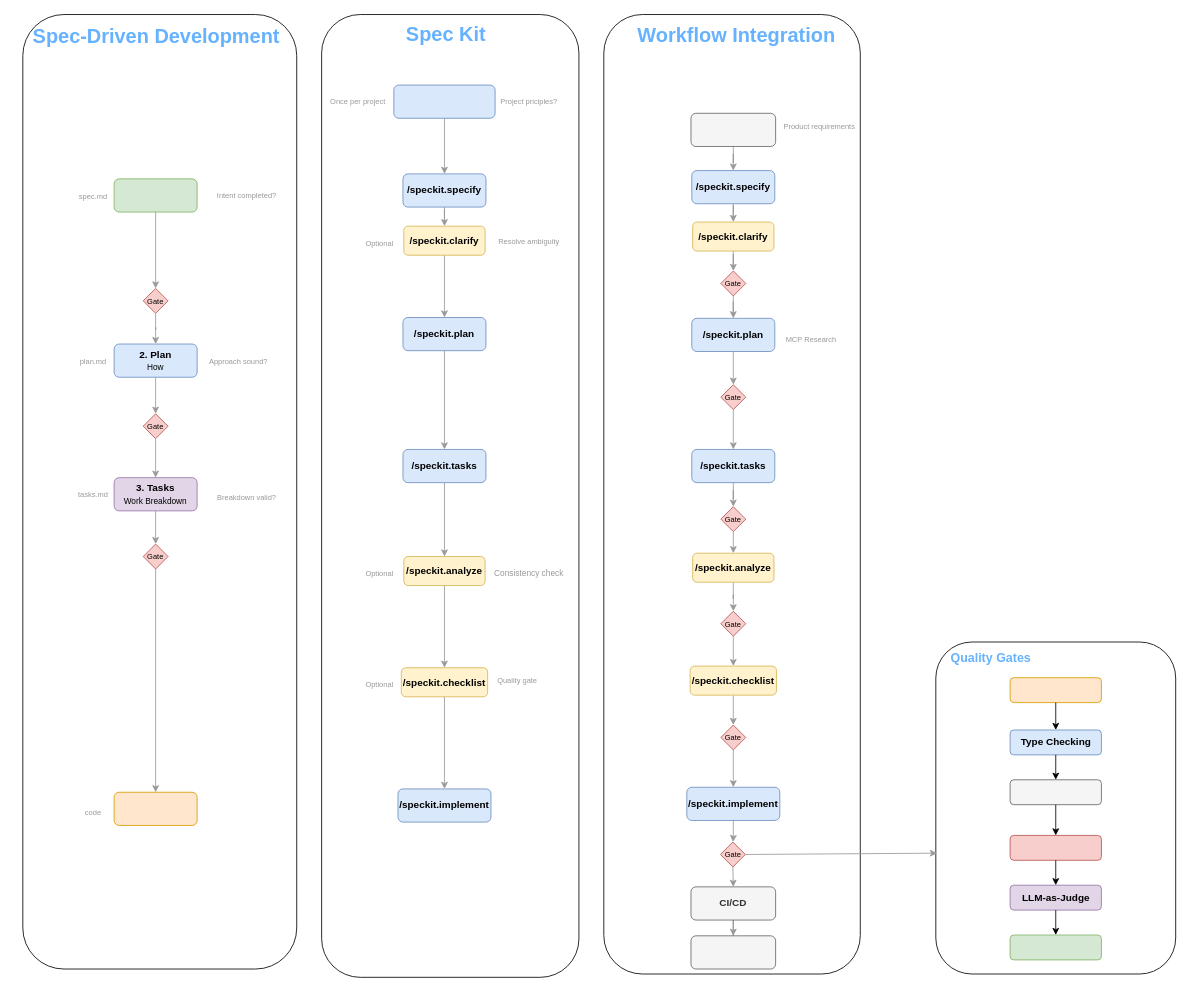
The diagram is 1190 pixels wide and 992 high, and some of its shapes have lost their labels. The box of each missing label's shape, as (x1, y1, x2, y2) in pixels:
/speckit.consitution: (393, 84, 495, 118)
1. Specify What & Why: (113, 178, 197, 212)
4. Implement Execute: (113, 791, 197, 825)
Automated Tests: (1009, 677, 1101, 703)
Deploy: (690, 935, 776, 969)
Human Review: (1009, 934, 1101, 960)
Jira: (690, 112, 776, 146)
Linting: (1009, 779, 1101, 805)
Security Scan: (1009, 835, 1101, 860)
